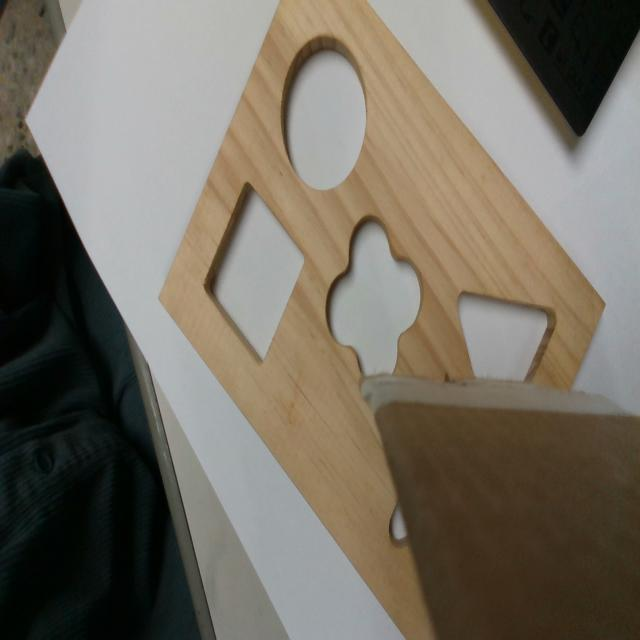circle: (282, 37, 368, 193)
flower: (324, 221, 422, 376)
square: (206, 179, 306, 362)
triangle: (454, 280, 558, 381)
